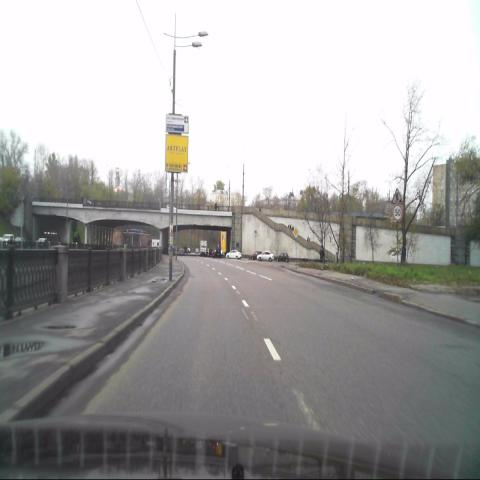1_25: (392, 187, 403, 204)
2_1: (291, 223, 300, 238)
3_24: (392, 204, 402, 221)
